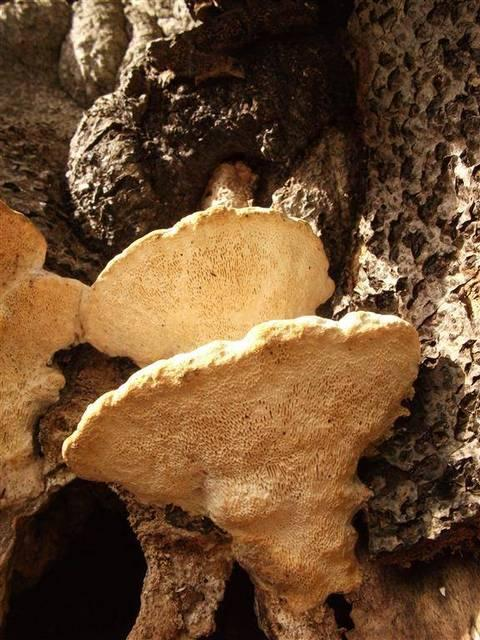Non-edible Mushroom: (0, 194, 423, 639)
